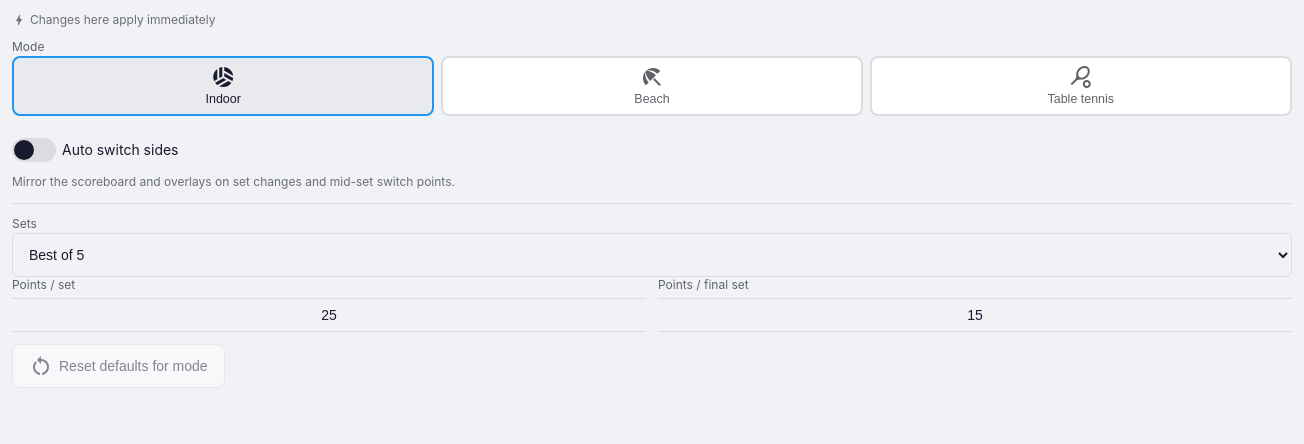
Test case: MatchRulesSection › tells the operator when a rules change lost a revision conflict
The width and height of the screenshot is (1304, 444).
Click the radio button with test id "rules-mode-beach" at x=652, y=86, box x1=441 y1=56 x2=863 y2=116
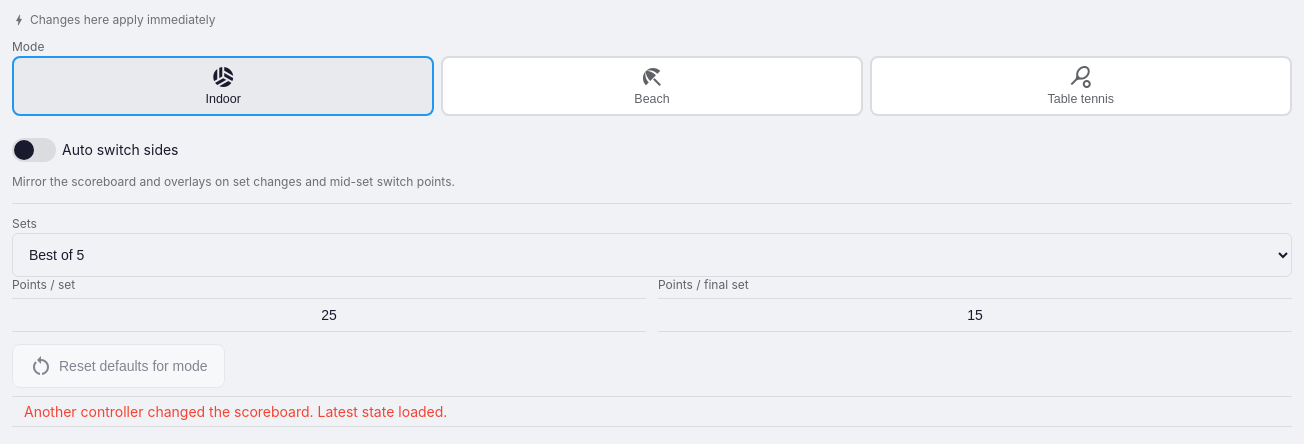
Now the text "Another controller changed the scoreboard. Latest state loaded." is shown, box x1=12 y1=396 x2=1292 y2=427
